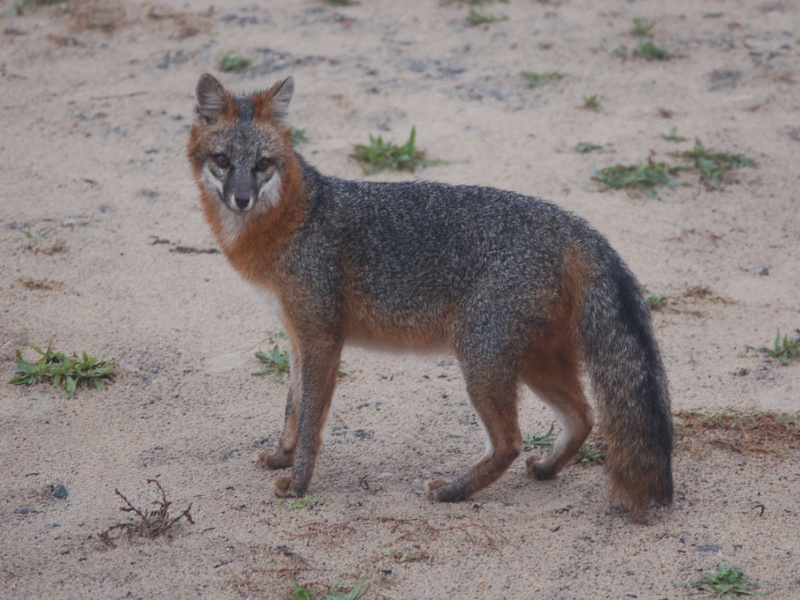fox: (185, 66, 679, 530)
